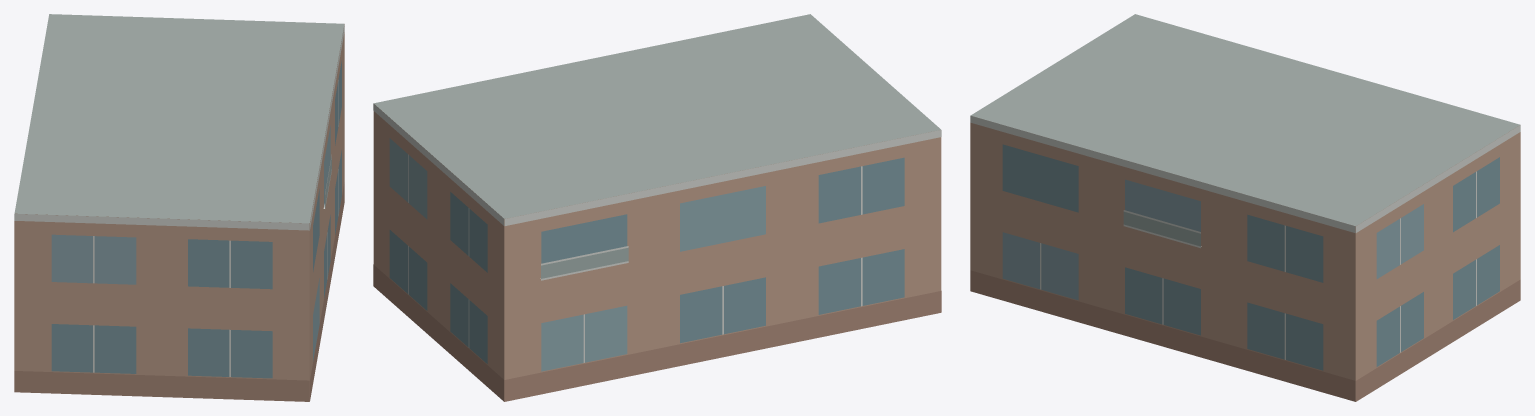
Rendered from survey-upis-32979017.glb.
3 views of the same model, side by side, from view 1: azimuth 30°, elevation 25°; view 2: azimuth 150°, elevation 25°; view 3: azimuth 270°, elevation 25° (orthographic). The views are drawn at different scales.
Parts seen in each view (by area): view 1: survey-upis-32979017.tmp; view 2: survey-upis-32979017.tmp; view 3: survey-upis-32979017.tmp.
Boxes of the visible parts, x1,y1,x2,y2 form: survey-upis-32979017.tmp: (14, 14, 344, 401); survey-upis-32979017.tmp: (373, 14, 941, 401); survey-upis-32979017.tmp: (970, 14, 1520, 401).
Size of the model in its own units: 15.82 by 6.1 by 17.33.
